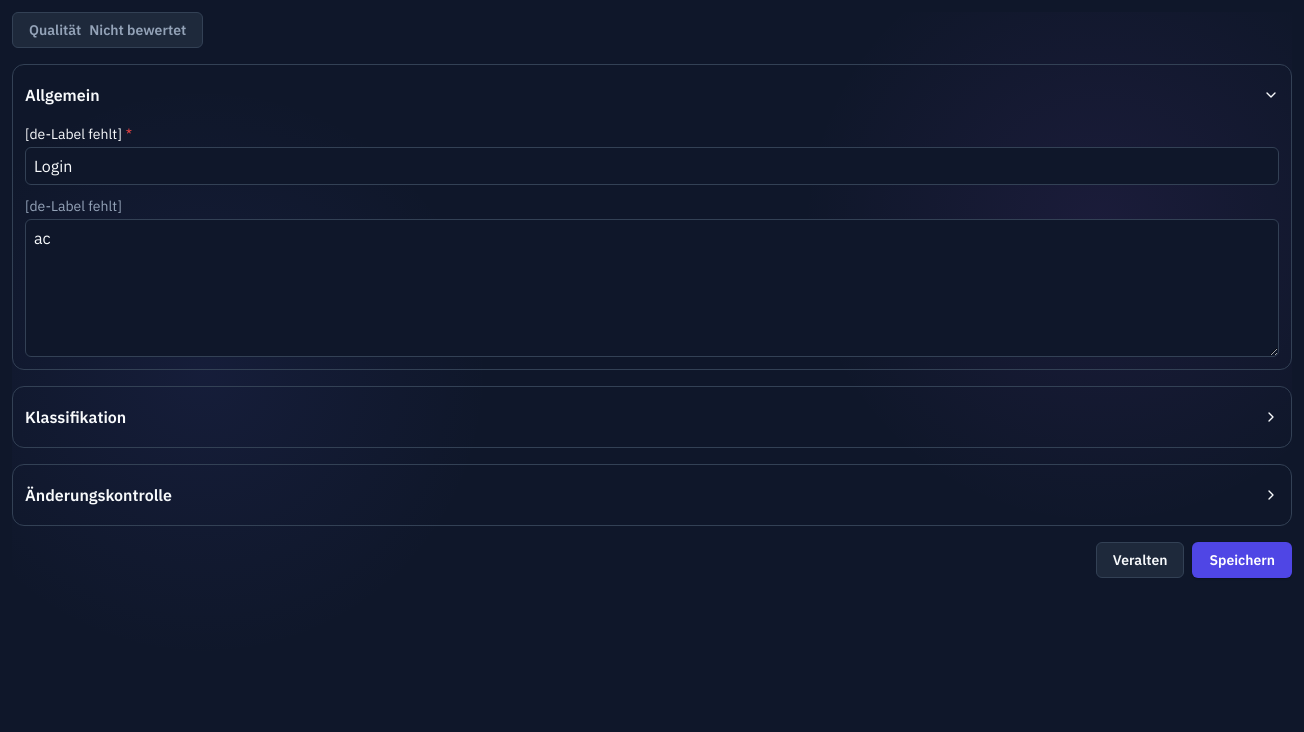
Scenario: RequirementArtifactForm › renders an editable=false attribute as disabled
The image size is (1304, 732).
Click the button with test id "artifact-section-toggle-change_control". click: [98, 495]
box: [25,477,1279,513]
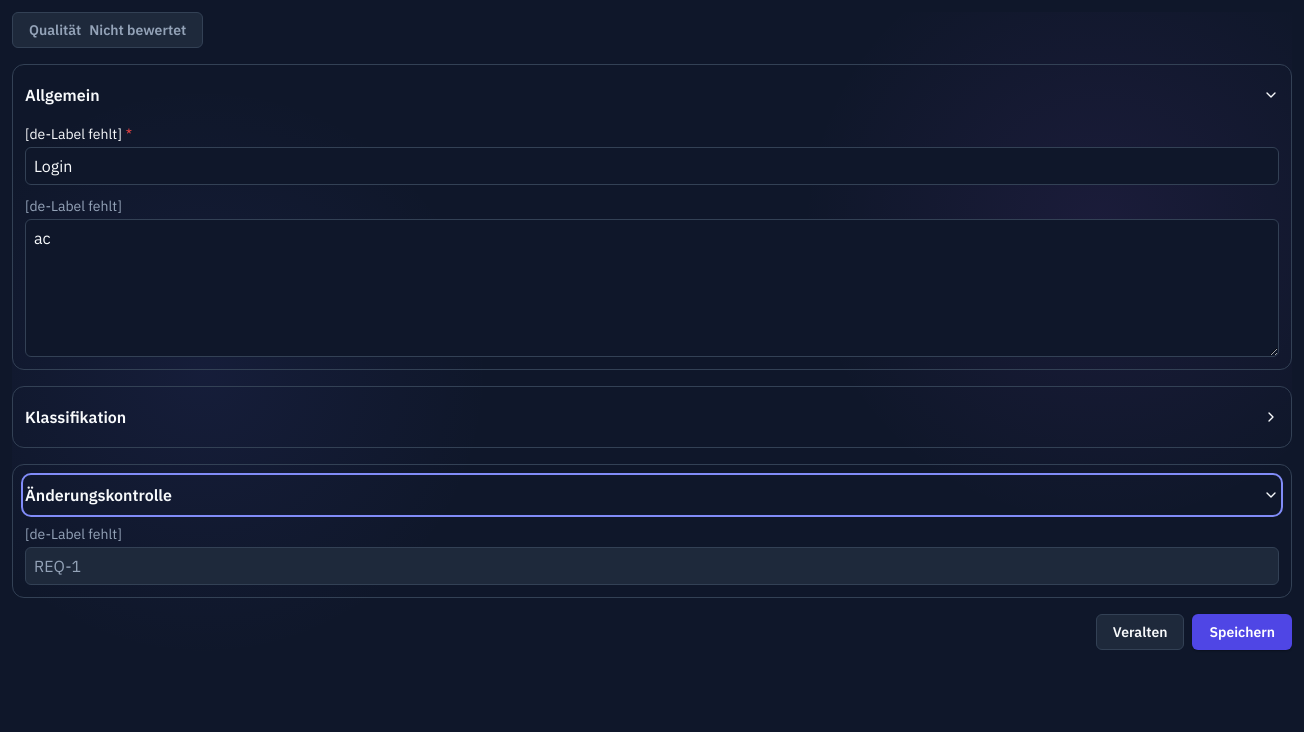
Check: the field with test id "artifact-field-uid" is disabled, box [25,547,1279,585]
